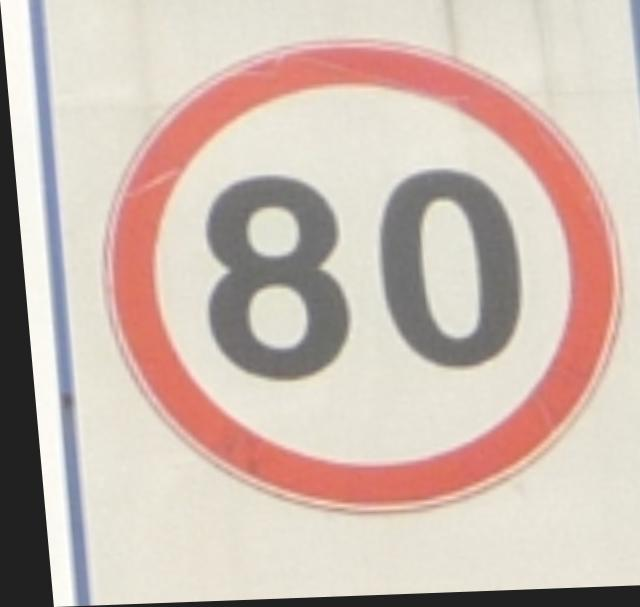limit80: (66, 20, 640, 535)
